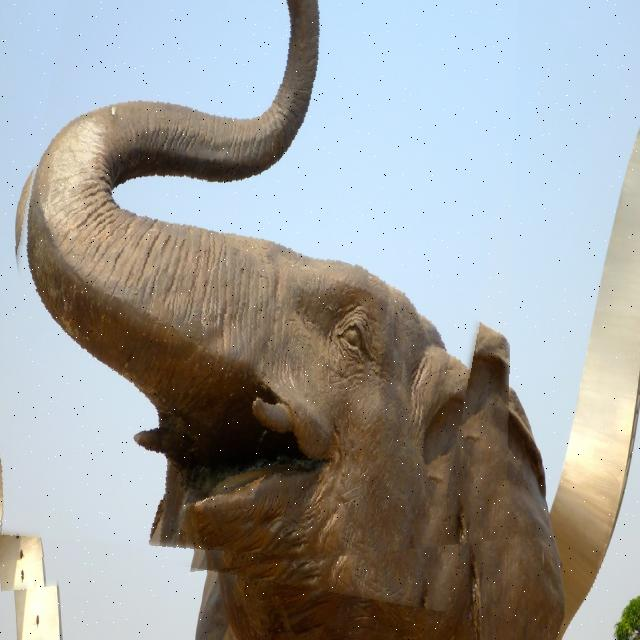elephant: (0, 0, 519, 593)
